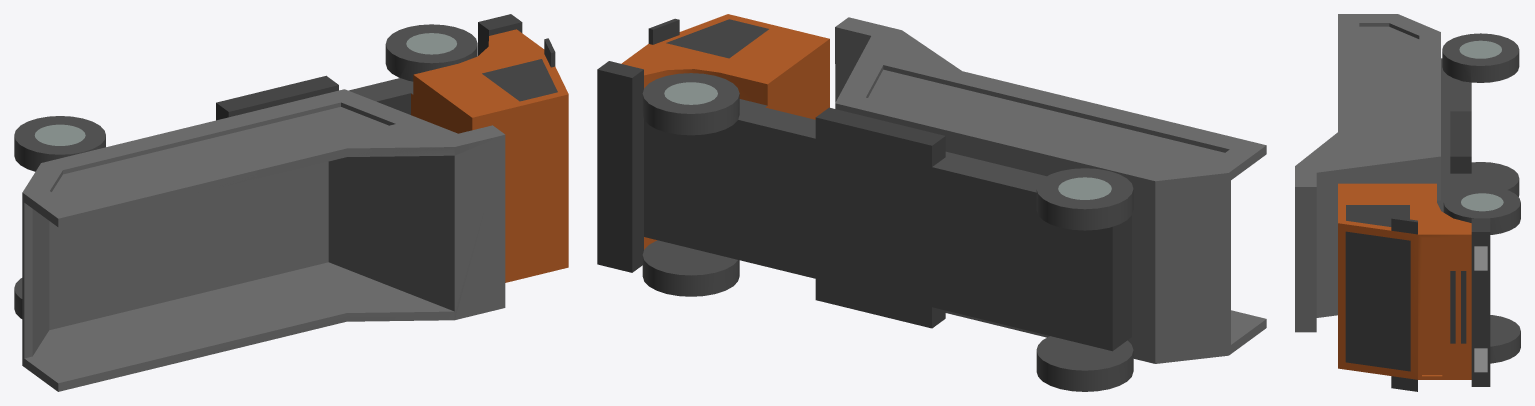
File: tip_truck.dae
3 views of the same model, side by side, from view 1: azimuth 30°, elevation 25°; view 2: azimuth 150°, elevation 25°; view 3: azimuth 270°, elevation 25° (orthographic). The views are drawn at different scales.
Visible parts, largest first — view 1: coords_ME_ID3_MA___auto_51, coords_ME_ID25_MA___auto_3, coords_ME_ID11_MA___auto_51, coords_ME_ID17_MA_material, coords_ME_ID71_MA___auto_, coords_ME_ID127_MA___auto_, coords_ME_ID97_MA___auto_8, coords_ME_ID153_MA___auto_8, coords_ME_ID53_MA___auto_; view 2: coords_ME_ID17_MA_material, coords_ME_ID3_MA___auto_51, coords_ME_ID11_MA___auto_51, coords_ME_ID25_MA___auto_3, coords_ME_ID53_MA___auto_, coords_ME_ID77_MA___auto_51, coords_ME_ID47_MA___auto_, coords_ME_ID127_MA___auto_, coords_ME_ID71_MA___auto_, coords_ME_ID153_MA___auto_8, coords_ME_ID97_MA___auto_8, coords_ME_ID41_MA___auto_; view 3: coords_ME_ID3_MA___auto_51, coords_ME_ID25_MA___auto_3, coords_ME_ID17_MA_material, coords_ME_ID109_MA___auto_, coords_ME_ID11_MA___auto_51, coords_ME_ID53_MA___auto_, coords_ME_ID71_MA___auto_, coords_ME_ID127_MA___auto_, coords_ME_ID97_MA___auto_8, coords_ME_ID153_MA___auto_8, coords_ME_ID133_MA___auto_, coords_ME_ID103_MA___auto_ (+4 smaller).
Part boxes in pixels (x1,y1,x2,y2): coords_ME_ID3_MA___auto_51: (22,89,505,391); coords_ME_ID25_MA___auto_3: (411,29,568,282); coords_ME_ID11_MA___auto_51: (50,102,395,203); coords_ME_ID17_MA_material: (14,24,477,318); coords_ME_ID71_MA___auto_: (216,75,338,120); coords_ME_ID127_MA___auto_: (482,59,557,101); coords_ME_ID97_MA___auto_8: (406,33,456,54); coords_ME_ID153_MA___auto_8: (34,124,85,145); coords_ME_ID53_MA___auto_: (478,14,522,55); coords_ME_ID17_MA_material: (642,73,1133,391); coords_ME_ID3_MA___auto_51: (835,17,1266,363); coords_ME_ID11_MA___auto_51: (866,65,1229,168); coords_ME_ID25_MA___auto_3: (621,14,829,249); coords_ME_ID53_MA___auto_: (597,61,643,272); coords_ME_ID77_MA___auto_51: (835,103,1155,363); coords_ME_ID47_MA___auto_: (932,215,1131,350); coords_ME_ID127_MA___auto_: (666,19,768,58); coords_ME_ID71_MA___auto_: (816,107,945,166); coords_ME_ID153_MA___auto_8: (1058,177,1111,199); coords_ME_ID97_MA___auto_8: (664,82,717,104); coords_ME_ID41_MA___auto_: (648,18,679,44); coords_ME_ID3_MA___auto_51: (1295,14,1440,332); coords_ME_ID25_MA___auto_3: (1338,183,1471,379); coords_ME_ID17_MA_material: (1437,33,1520,363); coords_ME_ID109_MA___auto_: (1345,231,1410,371); coords_ME_ID11_MA___auto_51: (1359,23,1419,157); coords_ME_ID53_MA___auto_: (1471,218,1490,386); coords_ME_ID71_MA___auto_: (1450,111,1471,173); coords_ME_ID127_MA___auto_: (1346,205,1409,226); coords_ME_ID97_MA___auto_8: (1461,193,1503,211); coords_ME_ID153_MA___auto_8: (1459,40,1501,58); coords_ME_ID133_MA___auto_: (1461,271,1466,343); coords_ME_ID103_MA___auto_: (1450,271,1455,343).
Size of the model in its own units: 64.51 by 22.92 by 27.64.
